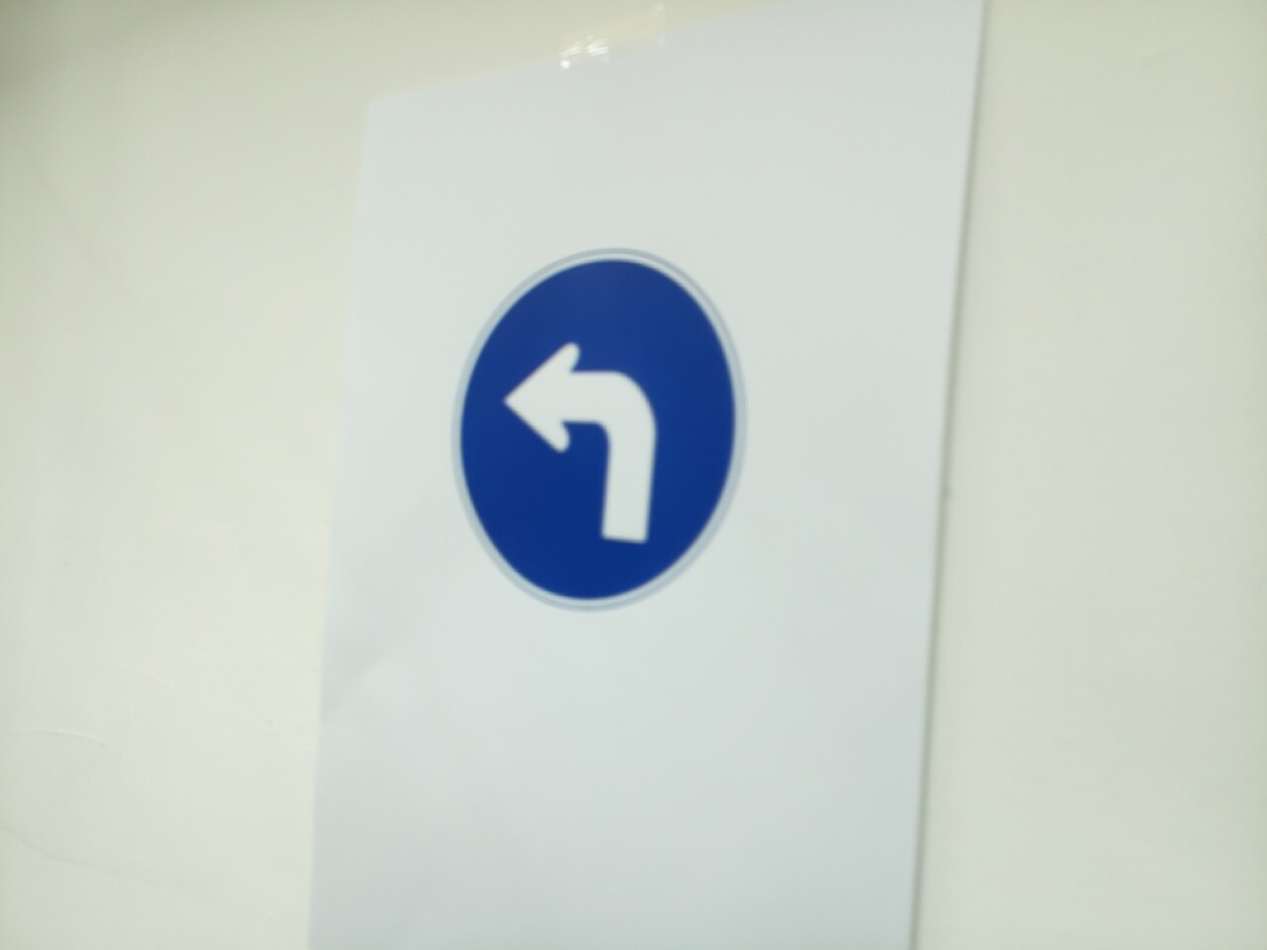left_turn: (451, 248, 744, 611)
